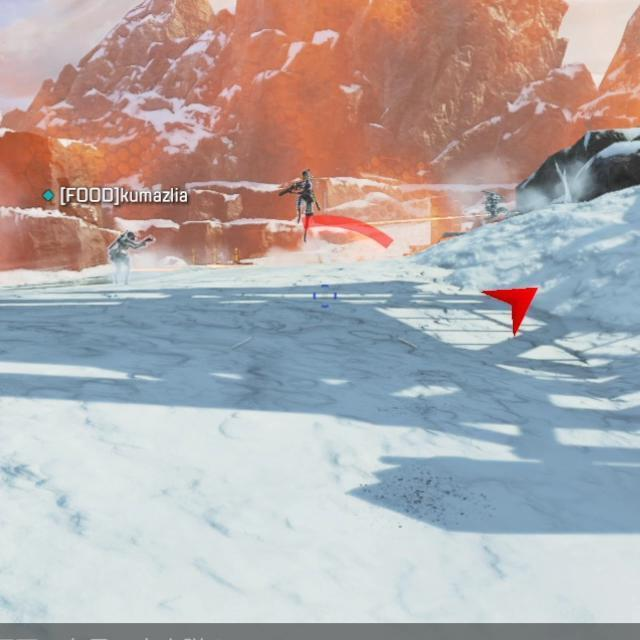avatar: (105, 228, 140, 287), (294, 166, 316, 240)
